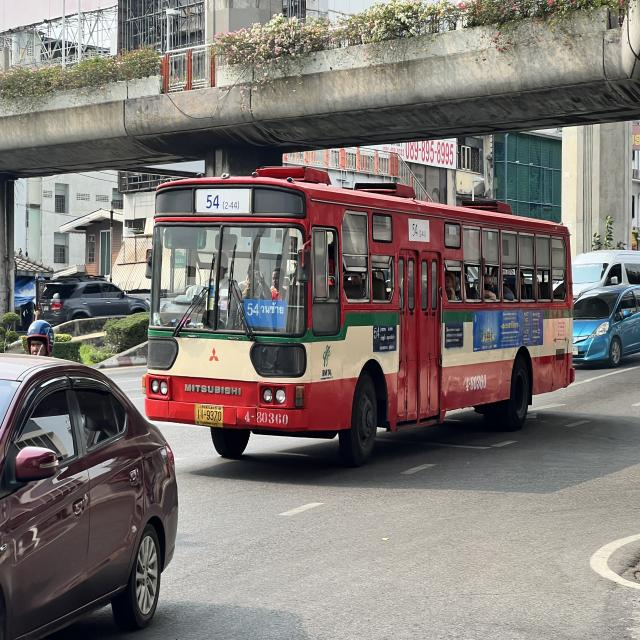BMTA-bus: (141, 169, 577, 461)
Bus-Line-Number: (195, 188, 251, 212)
Destination-Sign-Normal: (244, 298, 287, 329)
